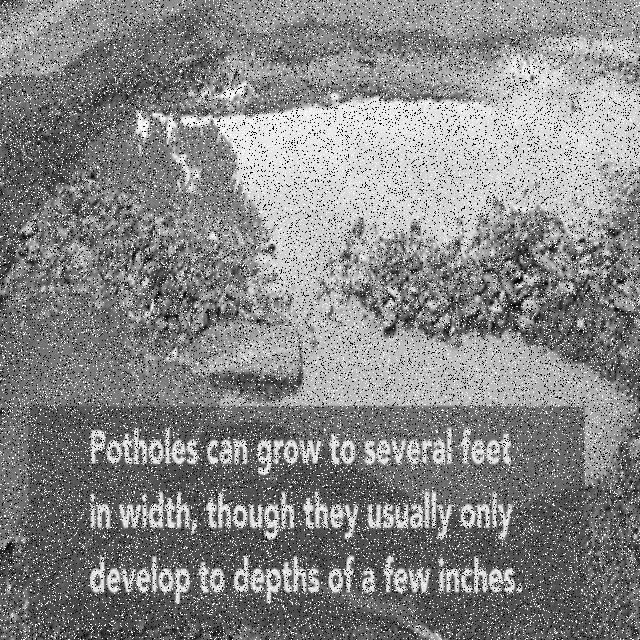pothole: (0, 77, 640, 543)
